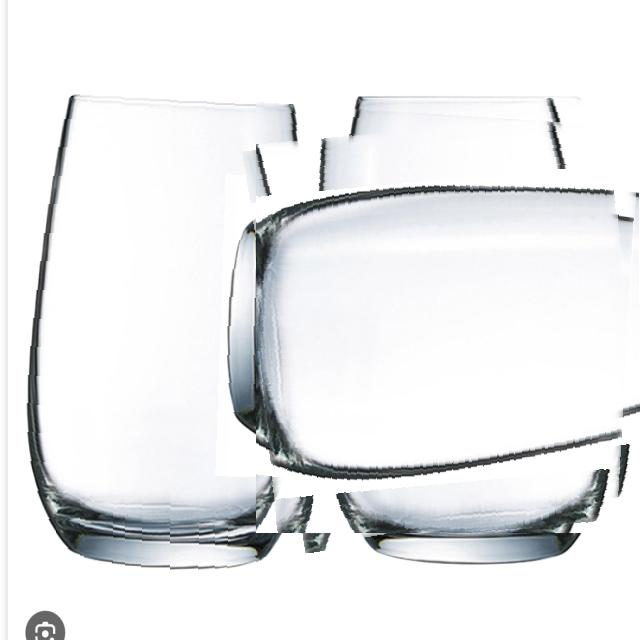recyclable: (12, 63, 335, 576), (256, 102, 640, 533)
